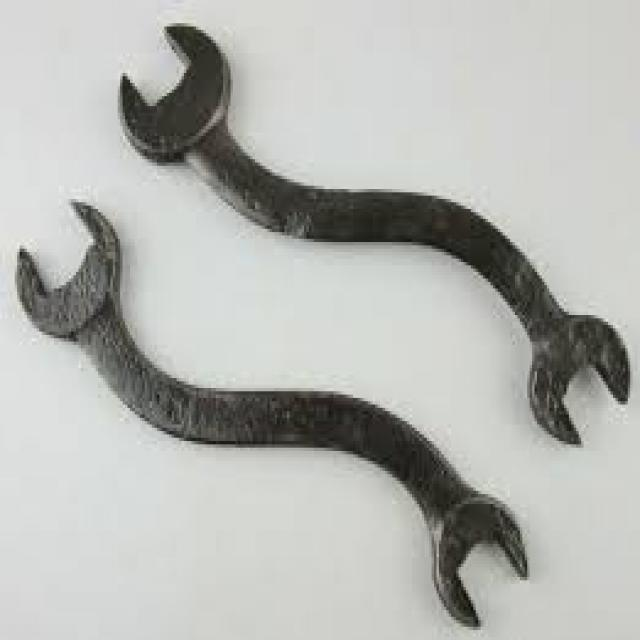wrench: (9, 194, 536, 639), (110, 13, 640, 448)
